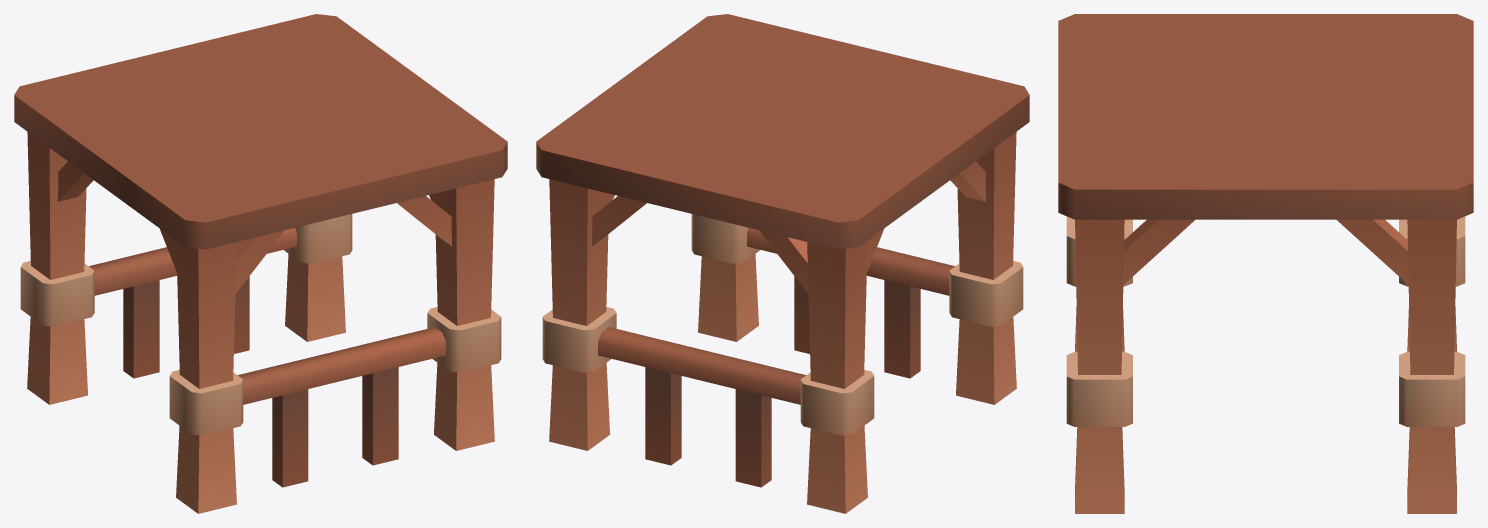
Rendered from structure-fence.obj.
3 views of the same model, side by side, from view 1: azimuth 30°, elevation 25°; view 2: azimuth 150°, elevation 25°; view 3: azimuth 270°, elevation 25° (orthographic). The views are drawn at different scales.
Parts seen in each view (by area): view 1: structure-fence; view 2: structure-fence; view 3: structure-fence.
Boxes of the visible parts, <box> form: structure-fence: <box>14,14,507,513</box>; structure-fence: <box>536,14,1029,513</box>; structure-fence: <box>1058,14,1473,513</box>.
Size of the model in its own units: 2.5 by 2.2 by 2.5.
1 material, 1 textured.
